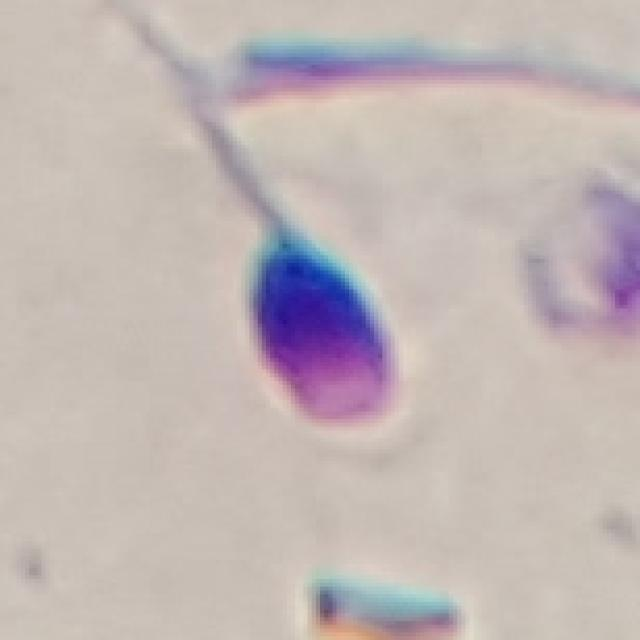normal sperm: (157, 103, 421, 440)
